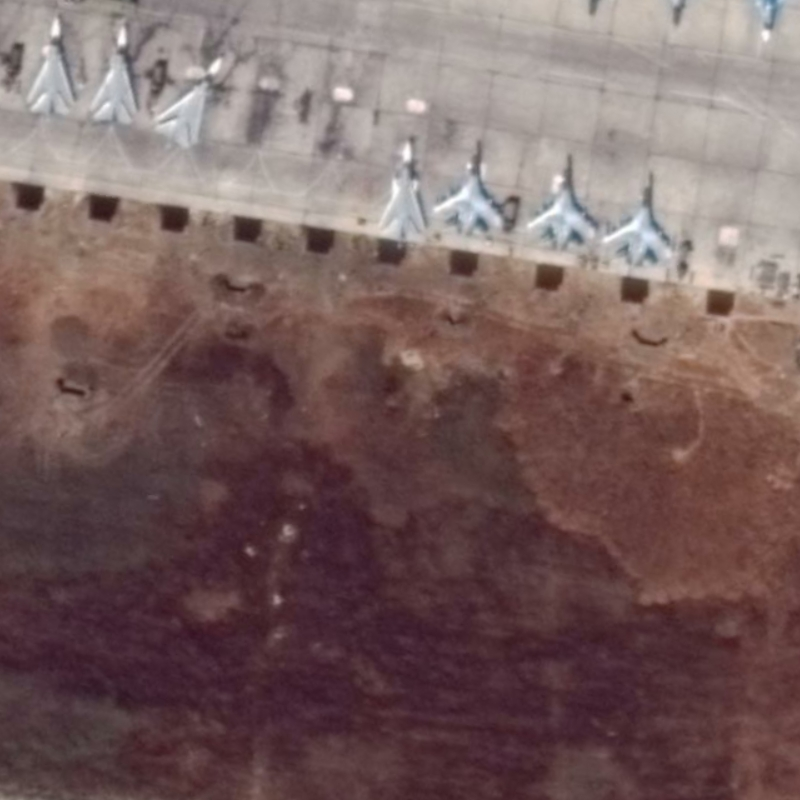A1: (430, 138, 513, 240), (599, 166, 680, 270), (525, 151, 603, 255)
A20: (151, 53, 230, 156), (86, 15, 142, 126), (375, 130, 430, 240), (22, 9, 77, 119)
